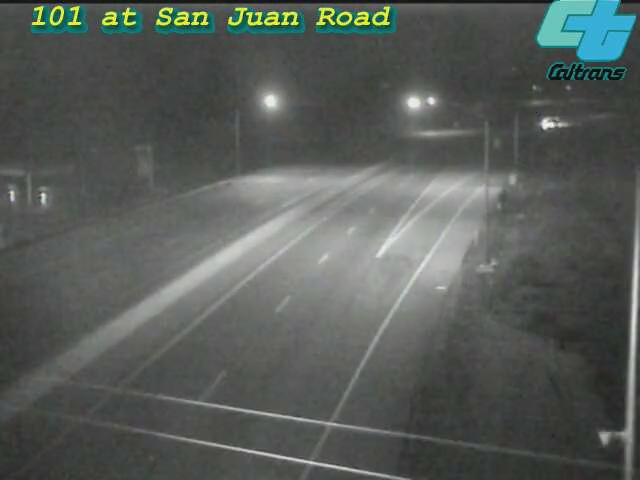vehicle: (533, 97, 583, 147), (520, 102, 570, 152)
